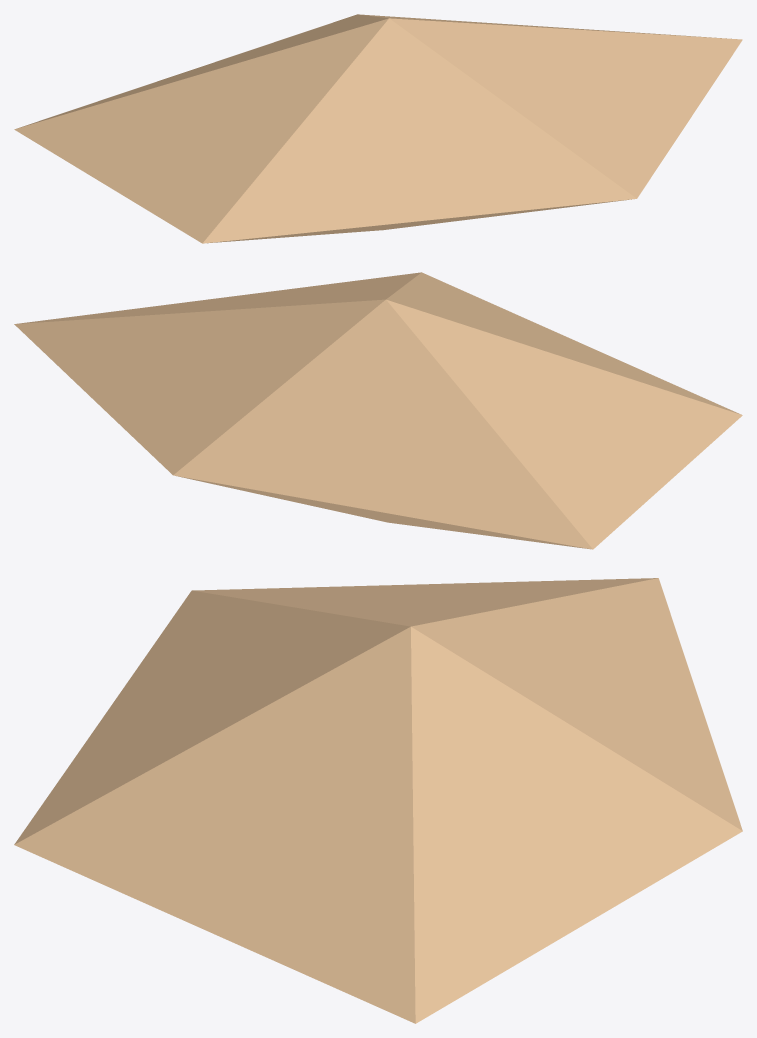
3 views of the same model, one above another, from view 1: azimuth 30°, elevation 25°; view 2: azimuth 150°, elevation 25°; view 3: azimuth 270°, elevation 25° (orthographic). The views are drawn at different scales.
Bounding box in the file's own units: 22.2 × 7 × 15.51.
